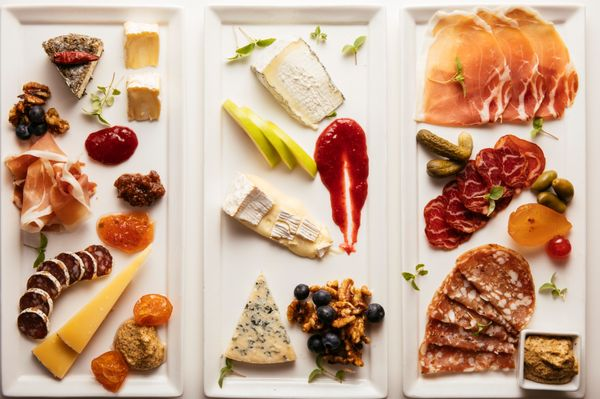soup: (417, 244, 537, 377), (252, 37, 346, 130)
